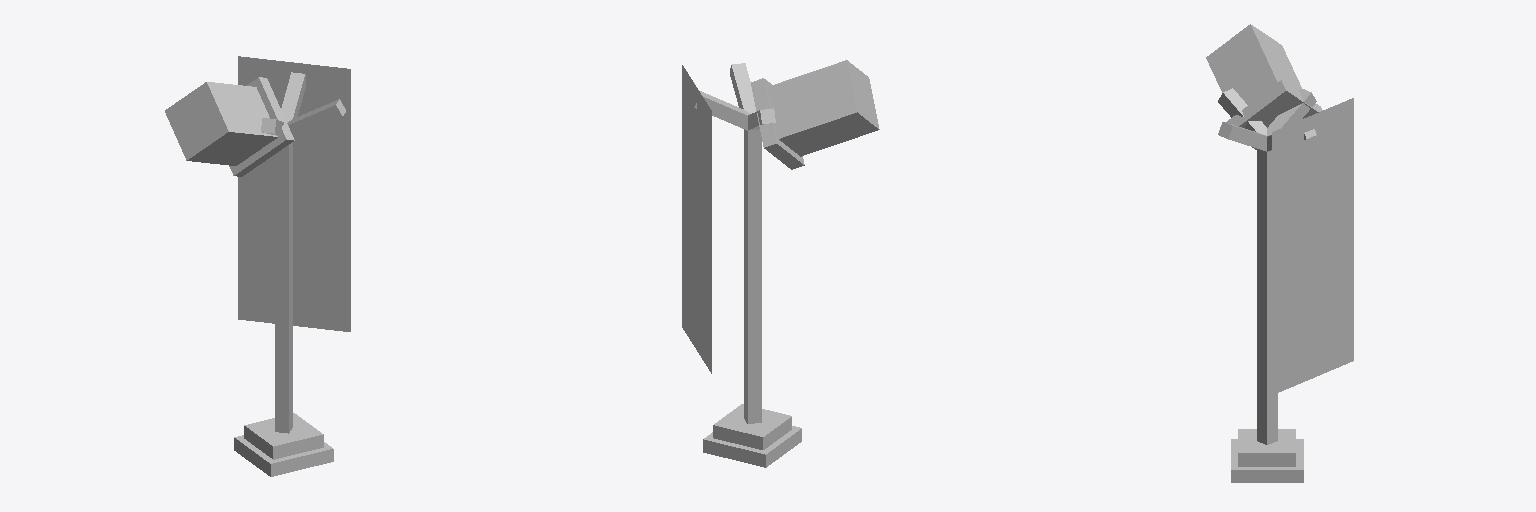
Rendered from 774_coatrack.obj.
3 renders of one model, left to right at view 1: azimuth 30°, elevation 25°; view 2: azimuth 150°, elevation 25°; view 3: azimuth 270°, elevation 25°, orthographic.
Visible parts, largest first — view 1: coat, Hat1, c9, c1, c2, Hat2, c10, c14; view 2: coat, Hat1, c9, c1, c2, Hat2, c14, c10; view 3: coat, c9, Hat1, c1, Hat2, c2, c10, c13, c12.
Boxes of the visible parts, x1,y1,x2,y2 form: coat: [238, 56, 350, 331]; Hat1: [165, 82, 277, 165]; c9: [275, 142, 292, 433]; c1: [244, 413, 323, 459]; c2: [234, 435, 333, 476]; Hat2: [229, 77, 294, 176]; c10: [287, 99, 345, 137]; c14: [281, 72, 305, 122]; coat: [682, 65, 711, 373]; Hat1: [768, 60, 879, 156]; c9: [744, 129, 761, 423]; c1: [713, 404, 791, 449]; c2: [703, 426, 801, 467]; Hat2: [751, 78, 804, 169]; c14: [690, 91, 749, 130]; c10: [730, 63, 755, 113]; coat: [1272, 98, 1353, 394]; c9: [1257, 149, 1277, 444]; Hat1: [1206, 24, 1301, 104]; c1: [1238, 429, 1295, 466]; Hat2: [1226, 80, 1322, 149]; c2: [1231, 439, 1303, 482]; c10: [1218, 122, 1271, 152]; c13: [1267, 88, 1316, 150]; c12: [1218, 88, 1266, 152].
Size of the model in its own units: 0.8991 by 1.91 by 0.6377.